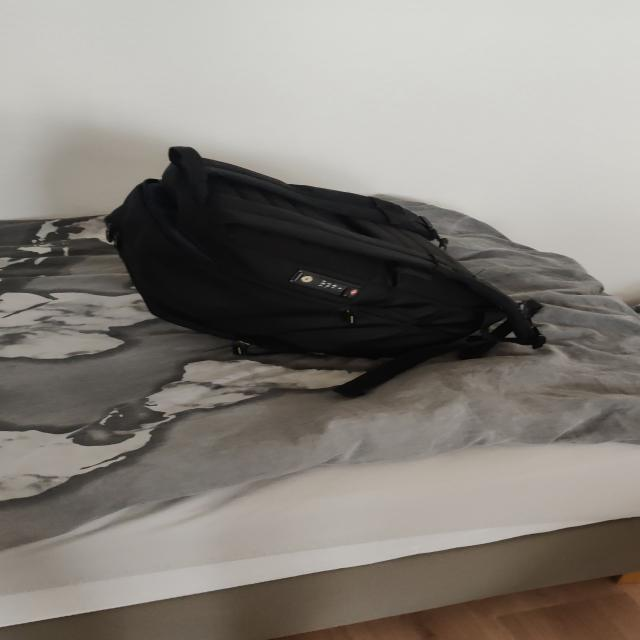backpack: (90, 139, 545, 393)
